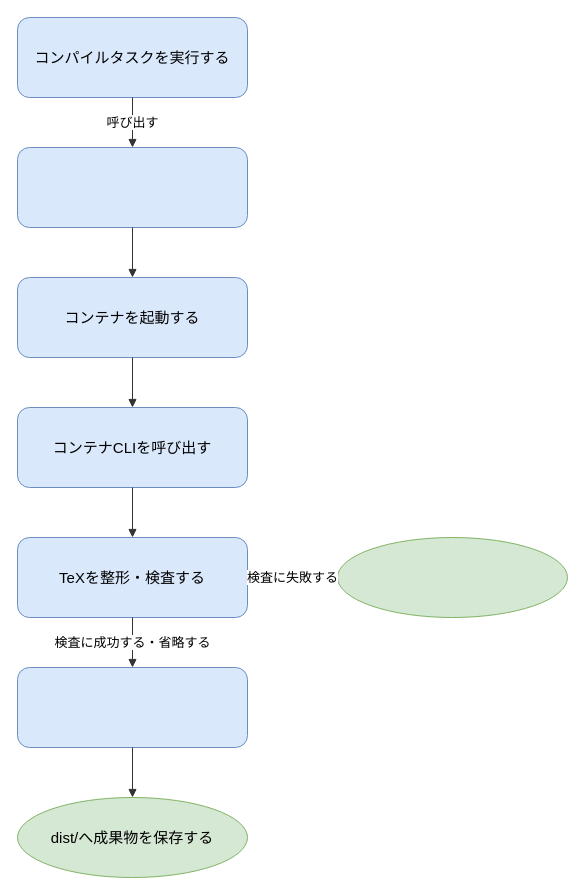
The diagram is 585 pixels wide and 895 high, and some of its shapes have lost their labels. Here are the shapes that lost their labels. From the top down, the centre of each, then its label:
point 132,187: ホストCLIを呼び出す
point 452,577: エラーを返して終了する
point 132,707: 指定形式へ変換する
